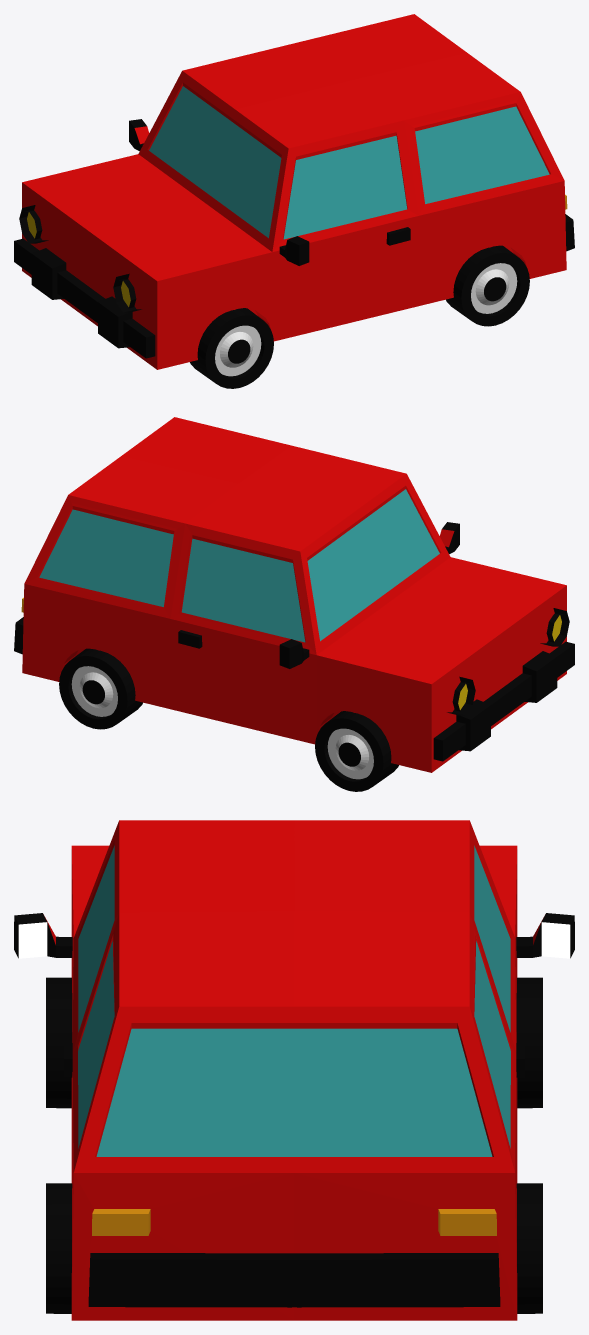
Rendered from car.glb.
The picture shows the model from 3 angles, top to bottom: view 1: azimuth 30°, elevation 25°; view 2: azimuth 150°, elevation 25°; view 3: azimuth 270°, elevation 25°; orthographic projection. The views are drawn at different scales.
Visible parts, largest first — view 1: Cube_0, Cylinder.001_1, Cylinder_2; view 2: Cube_0, Cylinder.001_1, Cylinder_2; view 3: Cube_0, Cylinder.001_1.
Part boxes in pixels (x1=…): Cube_0: x1=14, y1=14, x2=574, y2=369; Cylinder.001_1: x1=190, y1=245, x2=529, y2=388; Cylinder_2: x1=19, y1=205, x2=141, y2=312; Cube_0: x1=14, y1=417, x2=574, y2=772; Cylinder.001_1: x1=59, y1=648, x2=398, y2=791; Cylinder_2: x1=447, y1=608, x2=569, y2=715; Cube_0: x1=14, y1=820, x2=574, y2=1320; Cylinder.001_1: x1=46, y1=977, x2=542, y2=1313.
Bounding box in the file's own units: 3.74 × 1.69 × 2.52.
